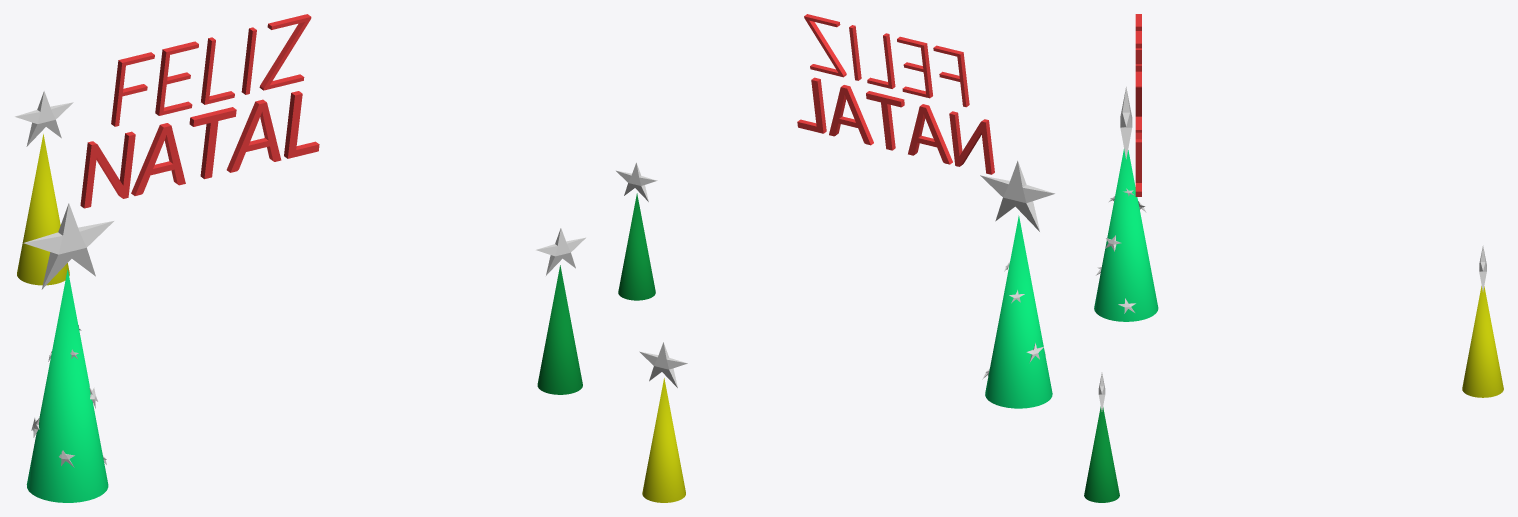
File: d022-nat.glb
3 renders of one model, left to right at view 1: azimuth 30°, elevation 25°; view 2: azimuth 150°, elevation 25°; view 3: azimuth 270°, elevation 25°, orthographic. The views are drawn at different scales.
Visible parts, largest first — view 1: menataltree, Text.053, Text.052, menataltree.002, menataltree.001, menatalstar001, menatalstar001.002, menatalstar001.001; view 2: menataltree, Text.053, Text.052, menataltree.002, menataltree.001, menatalstar001, menatalstar001.002, menatalstar001.001; view 3: menataltree, menataltree.002, menataltree.001, Text.052, menatalstar001.
Boxes of the visible parts, box(x1,y1,x2,y2) form: menataltree: box(26, 269, 108, 502); Text.053: box(80, 91, 319, 208); Text.052: box(111, 14, 311, 126); menataltree.002: box(17, 134, 69, 285); menataltree.001: box(537, 265, 582, 394); menatalstar001: box(23, 203, 113, 289); menatalstar001.002: box(15, 91, 73, 146); menatalstar001.001: box(536, 228, 585, 275); menataltree: box(985, 215, 1052, 408); Text.053: box(797, 77, 994, 174); Text.052: box(804, 14, 969, 107); menataltree.002: box(642, 378, 685, 502); menataltree.001: box(618, 193, 655, 300); menatalstar001: box(980, 160, 1054, 231); menatalstar001.002: box(639, 342, 687, 387); menatalstar001.001: box(616, 162, 657, 201); menataltree: box(1094, 149, 1158, 321); menataltree.002: box(1462, 286, 1503, 397); menataltree.001: box(1084, 406, 1119, 502); Text.052: box(1135, 14, 1141, 132); menatalstar001: box(1120, 87, 1132, 159).
Size of the model in its own units: 6.83 by 4.93 by 5.75.
